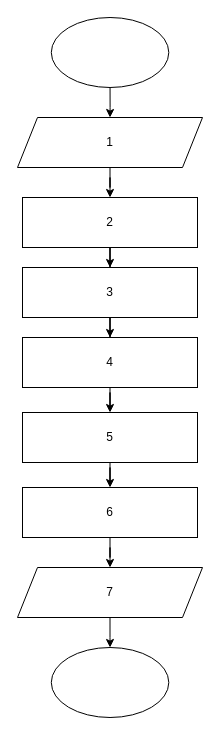
The diagram is 220 pixels wide and 735 high, and some of its shapes have lost their labels. Here are the shapes that lost their labels. From the top down, the centre of each, then its label:
(109,52): START
(109,682): END
